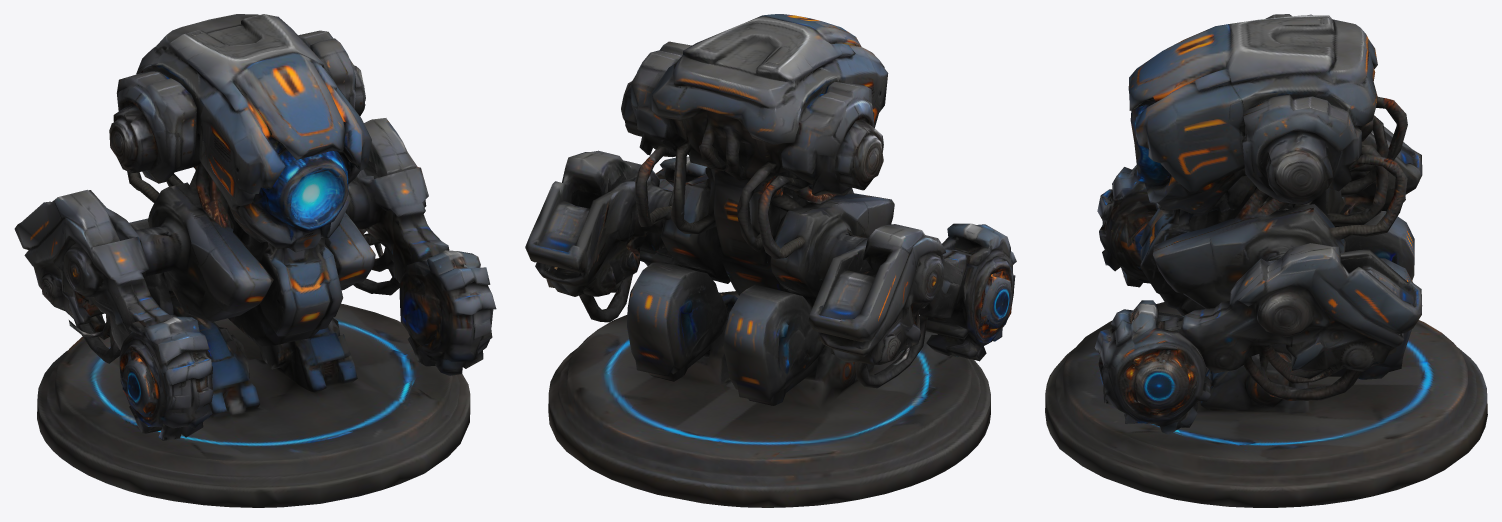
Rendered from futuristic_miner.glb.
3 renders of one model, left to right at view 1: azimuth 30°, elevation 25°; view 2: azimuth 150°, elevation 25°; view 3: azimuth 270°, elevation 25°, orthographic. The views are drawn at different scales.
Size of the model in its own units: 2 by 1.95 by 2.
1 material, 1 textured.
